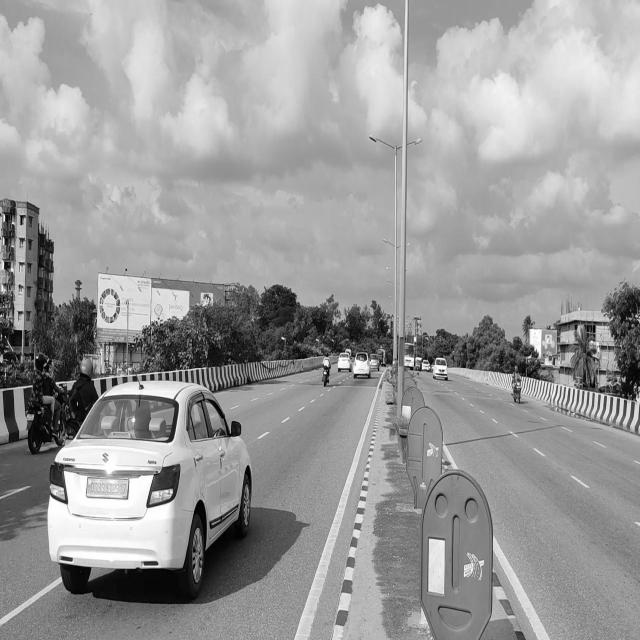bike: (21, 350, 66, 450), (311, 344, 342, 401), (509, 348, 528, 421)
car: (44, 381, 257, 594), (351, 342, 373, 387)
license-plate: (84, 474, 134, 502)
